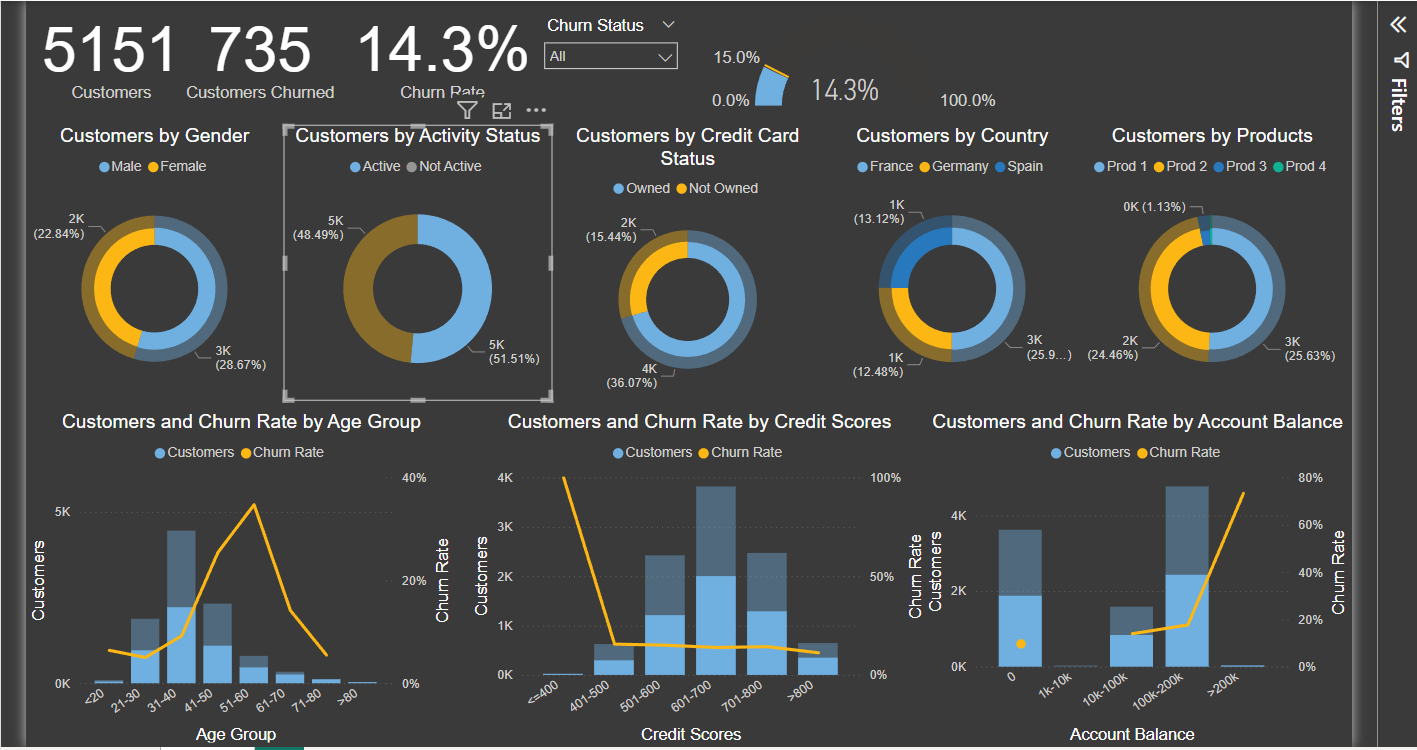

Layout of this report page (visuals, bound fields, positions):
{"tool":"powerbi","page":{"name":"Page 1","canvas":[1280,720],"ordinal":0},"visuals":[{"type":"card","fields":{"Values":["Customer Data.Customers"]},"box":[9.8,0,145.5,101.5],"z":0},{"type":"card","fields":{"Values":["Customer Data.Customers Churned"]},"box":[146.8,0,157.8,101.5],"z":1},{"type":"card","fields":{"Values":["Customer Data.Churn Rate"]},"box":[304.6,0,193.5,101.5],"z":2},{"type":"donutChart","fields":{"Category":["Customer Data.Gender"],"Y":["Customer Data.Customers"]},"box":[0,119.4,248.4,266.2],"z":3},{"type":"donutChart","fields":{"Y":["Customer Data.Customers"],"Category":["Customer Data.Activity Status"]},"box":[248.4,119.4,259.3,266.2],"z":4},{"type":"donutChart","fields":{"Y":["Customer Data.Customers"],"Category":["Customer Data.Credit Card Status"]},"box":[509.1,119.4,259.3,266.2],"z":5},{"type":"donutChart","fields":{"Y":["Customer Data.Customers"],"Category":["Customer Data.Country"]},"box":[768.4,119.4,251.1,266.2],"z":6},{"type":"donutChart","fields":{"Y":["Customer Data.Customers"],"Category":["Customer Data.Products"]},"box":[1019.6,119.4,251.1,266.2],"z":7},{"type":"lineClusteredColumnComboChart","fields":{"Category":["Age Group ID.Age Group"],"Y":["Customer Data.Customers"],"Y2":["Customer Data.Churn Rate"]},"box":[0,395.2,415.8,325.2],"z":8},{"type":"lineClusteredColumnComboChart","fields":{"Y":["Customer Data.Customers"],"Y2":["Customer Data.Churn Rate"],"Category":["Credit Scores ID.Credit Scores"]},"box":[426.8,395.2,446,325.2],"z":9},{"type":"lineClusteredColumnComboChart","fields":{"Y":["Customer Data.Customers"],"Y2":["Customer Data.Churn Rate"],"Category":["Acct Balance ID.Account Balance"]},"box":[864.5,395.2,415.8,325.2],"z":10},{"type":"slicer","fields":{"Values":["Customer Data.Churn Status"]},"box":[489.9,9.6,149.6,91.9],"z":11},{"type":"gauge","fields":{"Y":["Customer Data.Churn Rate"],"MinValue":["Min(Customer Data.Minimum Churn Rate)"],"MaxValue":["Max(Customer Data.Maximum Churn Rate)"],"TargetValue":["Min(Customer Data.Target Churn Rate)"]},"box":[650.4,9.6,297.8,101.5],"z":12}]}

Visuals, with their boxes on the page's 1280x720 design canvas (x1, y1, x2, y2). These are canvas units, not pixel positions in the 1417x750 screenshot, which may show the page scaled, cropped or inside an application window:
card - Customer Data.Customers: 10/0/155/102
card - Customer Data.Customers Churned: 147/0/305/102
card - Customer Data.Churn Rate: 305/0/498/102
donutChart - Customer Data.Gender x Customer Data.Customers: 0/119/248/386
donutChart - Customer Data.Customers x Customer Data.Activity Status: 248/119/508/386
donutChart - Customer Data.Customers x Customer Data.Credit Card Status: 509/119/768/386
donutChart - Customer Data.Customers x Customer Data.Country: 768/119/1020/386
donutChart - Customer Data.Customers x Customer Data.Products: 1020/119/1271/386
lineClusteredColumnComboChart - Age Group ID.Age Group x Customer Data.Customers: 0/395/416/720
lineClusteredColumnComboChart - Customer Data.Customers x Customer Data.Churn Rate: 427/395/873/720
lineClusteredColumnComboChart - Customer Data.Customers x Customer Data.Churn Rate: 864/395/1280/720
slicer - Customer Data.Churn Status: 490/10/640/102
gauge - Customer Data.Churn Rate x Min(Customer Data.Minimum Churn Rate): 650/10/948/111
